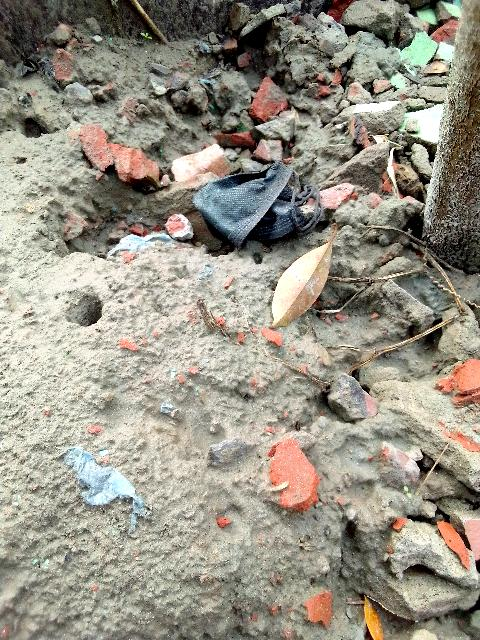mask: (203, 174, 307, 243)
